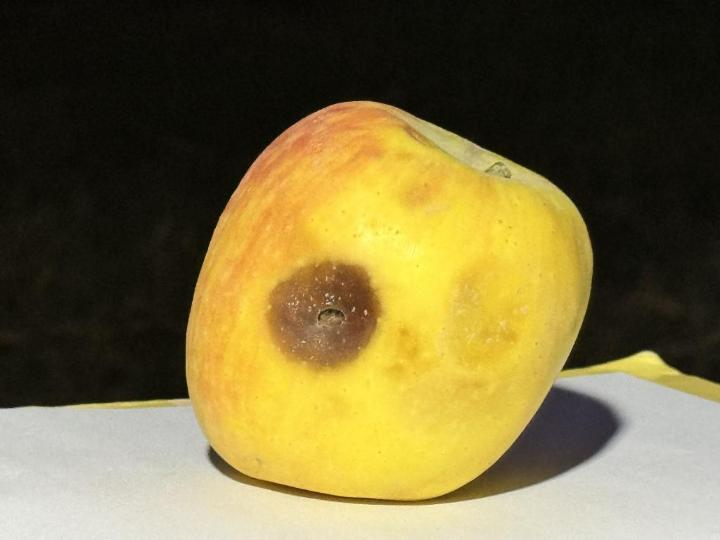apple: (186, 102, 592, 499)
rot_mold_decay: (267, 261, 381, 366)
